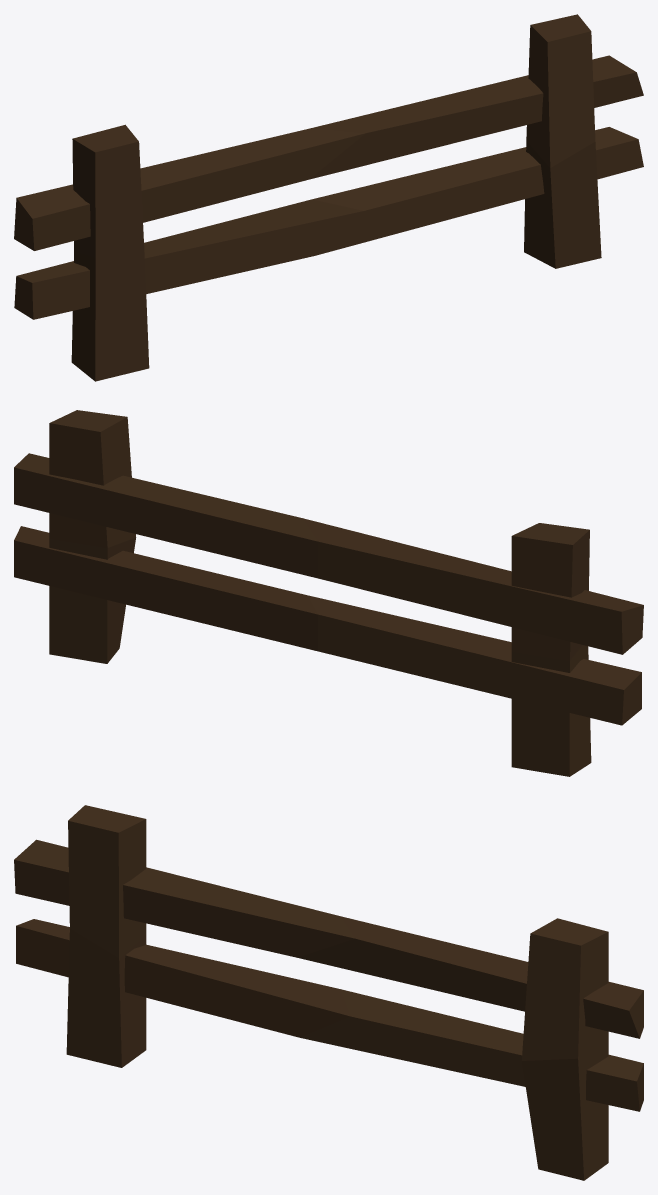
File: fence_01.fbx
The picture shows the model from 3 angles, top to bottom: view 1: azimuth 30°, elevation 25°; view 2: azimuth 150°, elevation 25°; view 3: azimuth 330°, elevation 25°; orthographic projection. The views are drawn at different scales.
Parts seen in each view (by area): view 1: Cube.004, Cube.002, Cube, Cube.001; view 2: Cube.002, Cube.004, Cube.001, Cube; view 3: Cube.004, Cube.002, Cube.001, Cube.
Boxes of the visible parts, box(x1,y1,x2,y2) form: Cube.004: box(14, 127, 643, 319); Cube.002: box(14, 55, 643, 250); Cube: box(71, 124, 149, 381); Cube.001: box(524, 14, 601, 268); Cube.002: box(14, 453, 643, 654); Cube.004: box(14, 526, 641, 725); Cube.001: box(49, 410, 136, 663); Cube: box(511, 523, 591, 776); Cube.004: box(16, 919, 643, 1111); Cube.002: box(14, 839, 643, 1038); Cube.001: box(521, 918, 608, 1180); Cube: box(66, 805, 146, 1067).
Size of the model in its own units: 751 by 268 by 64.38.
